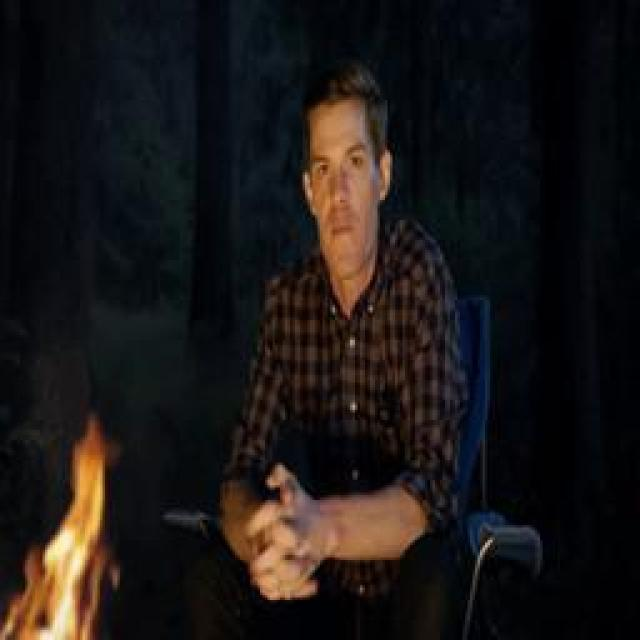Fire: (1, 415, 129, 640)
